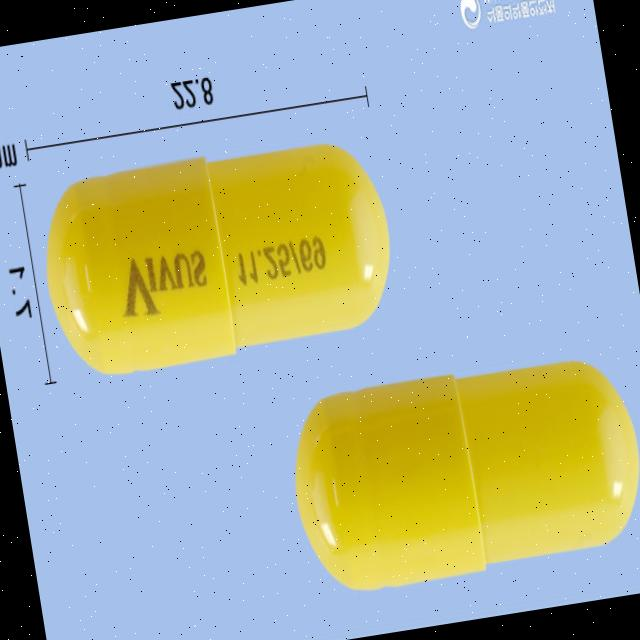Qsymia Cap: (30, 130, 408, 388), (282, 342, 640, 604)
